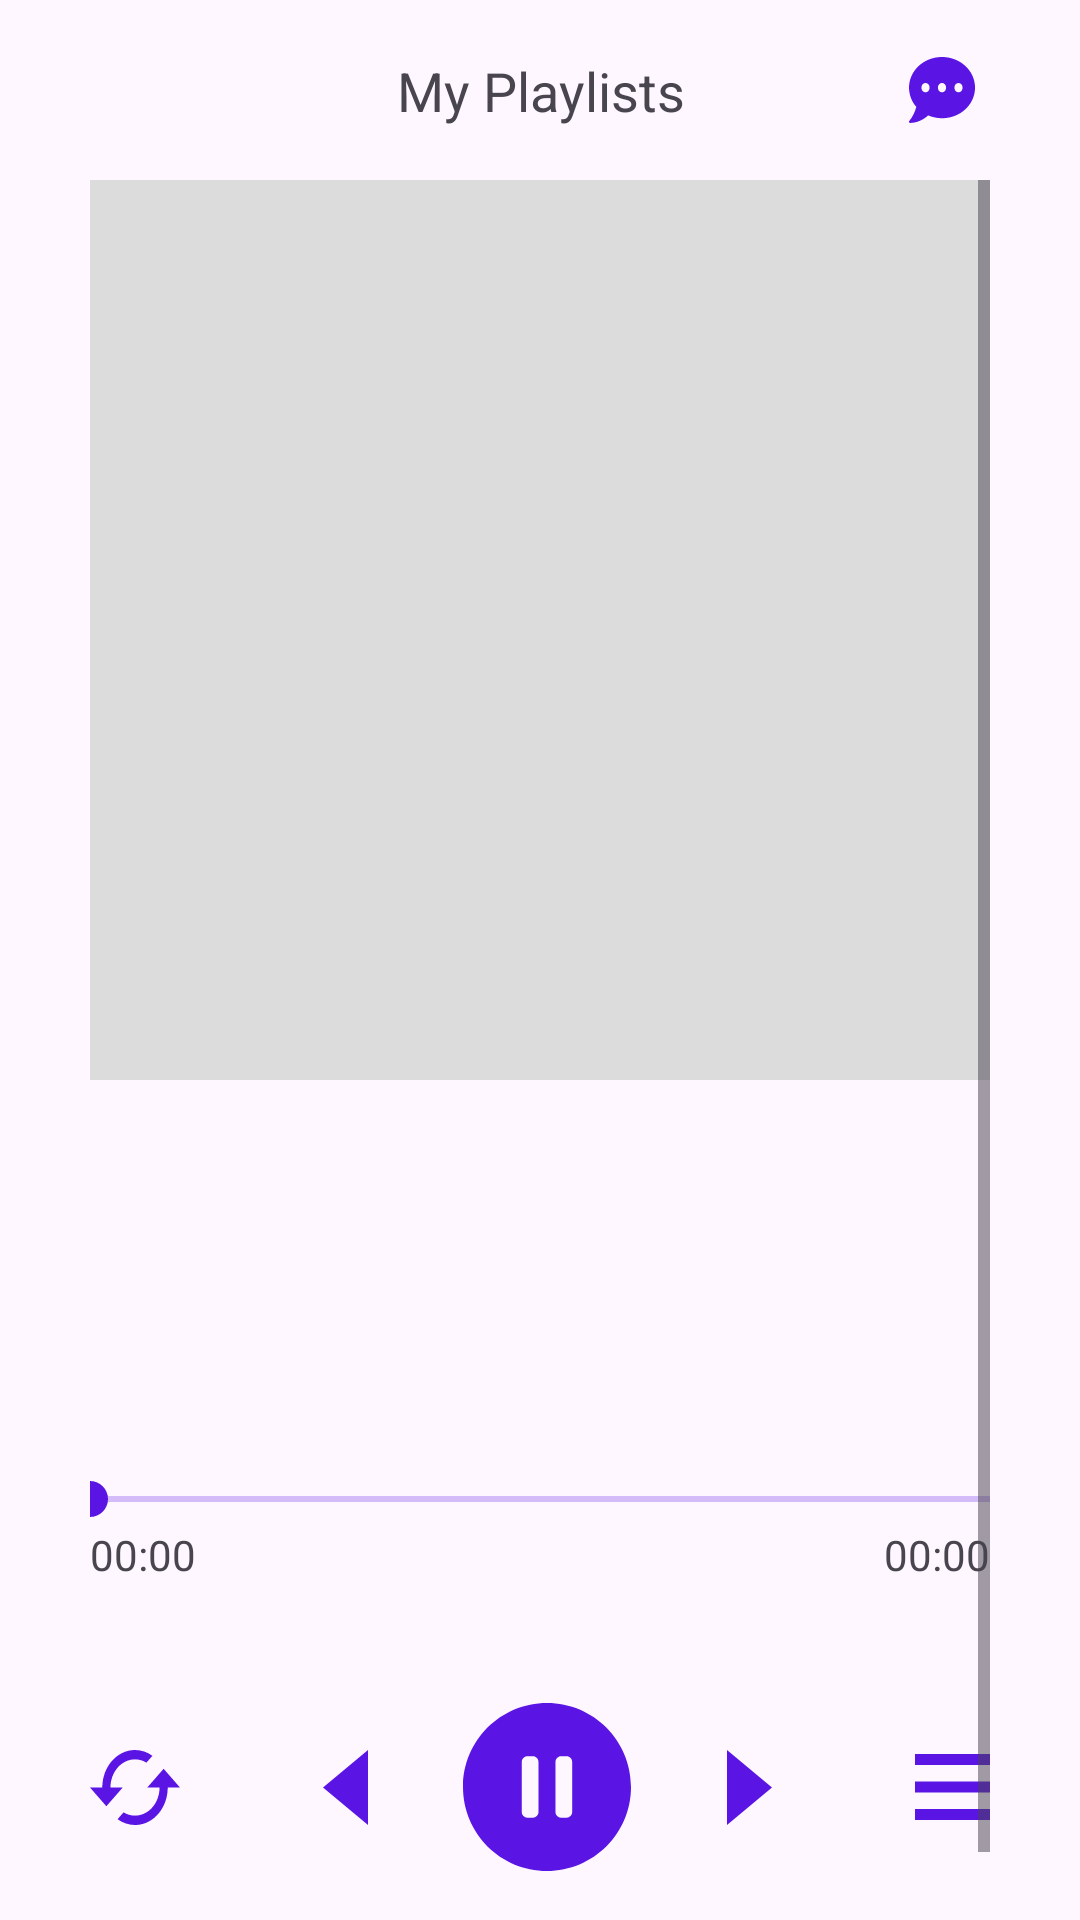

Icon bounding boxes for this 1080x1920 phone screenshot, format (x1, y1, x2, y2):
comments: (909, 57, 975, 123)
